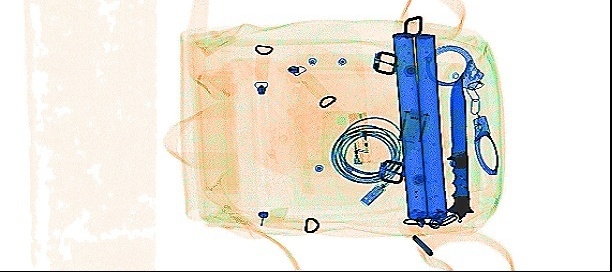handcuffs: (423, 41, 499, 175)
knife: (447, 73, 475, 223)
lighter: (347, 108, 371, 168)
